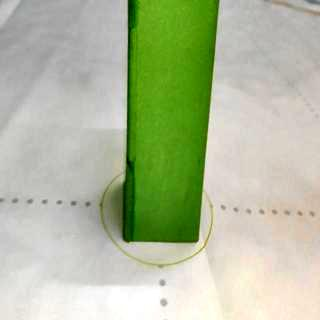greenbox: (126, 0, 206, 244)
